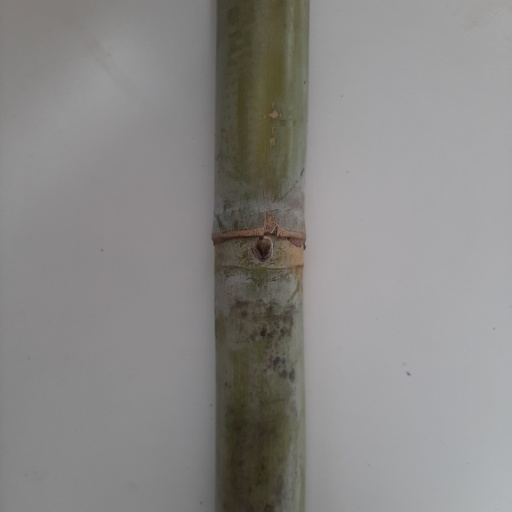Bud: (250, 237, 274, 263)
